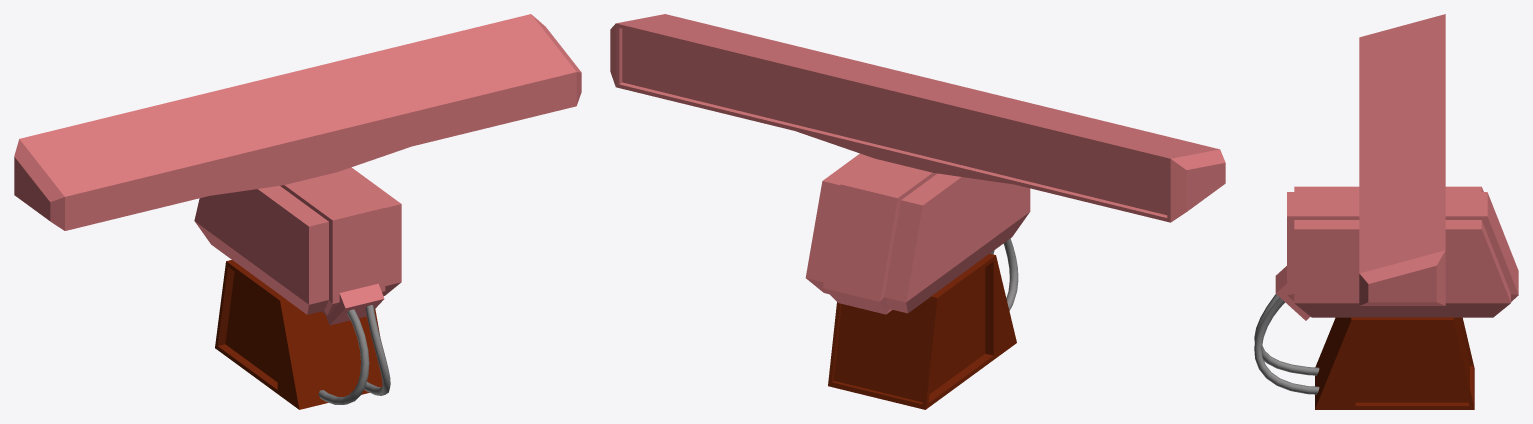
Rendered from ops_20.obj.
3 renders of one model, left to right at view 1: azimuth 30°, elevation 25°; view 2: azimuth 150°, elevation 25°; view 3: azimuth 270°, elevation 25°, orthographic. The views are drawn at different scales.
Visible parts, largest first — view 1: radar, body; view 2: radar, body; view 3: body, radar.
Boxes of the visible parts, <box> form: radar: <box>14,14,581,230</box>; body: <box>194,167,401,409</box>; radar: <box>610,14,1225,222</box>; body: <box>805,153,1030,409</box>; body: <box>1254,186,1518,409</box>; radar: <box>1359,14,1445,305</box>.
Bounding box in the file's own units: 1.41 × 0.6911 × 0.6443.
